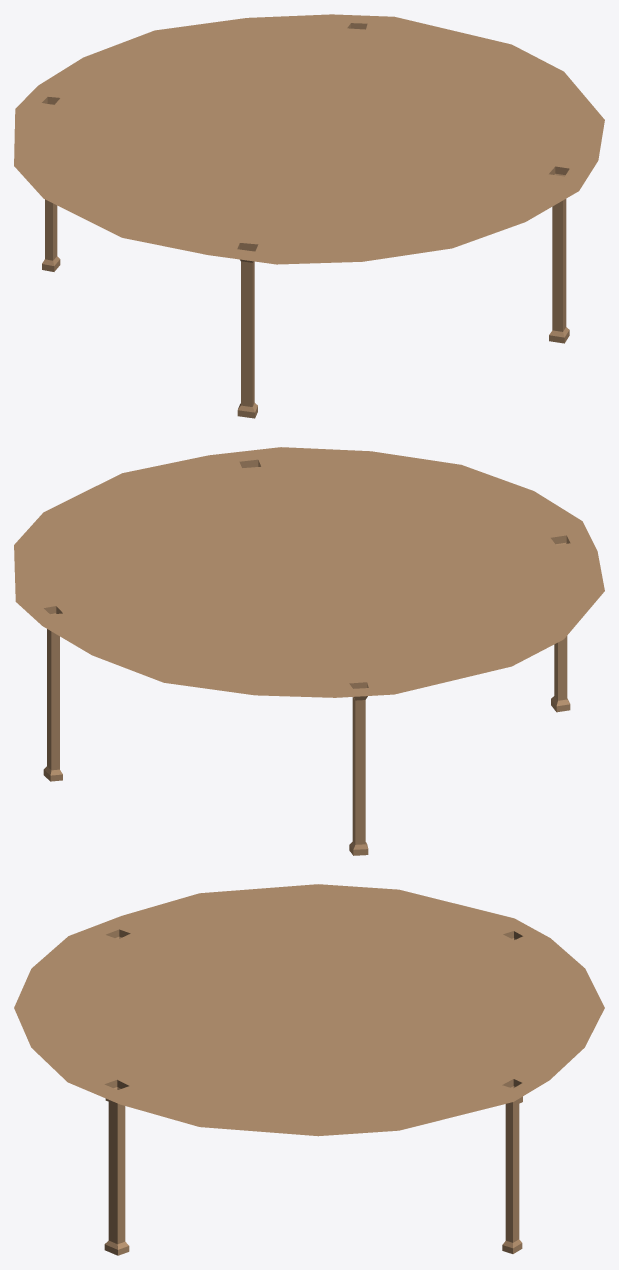
The model's file is table_support.fbx.
3 renders of one model, top to bottom at view 1: azimuth 30°, elevation 25°; view 2: azimuth 150°, elevation 25°; view 3: azimuth 270°, elevation 25°, orthographic.
Parts seen in each view (by area): view 1: Plane.012; view 2: Plane.012; view 3: Plane.012.
Boxes of the visible parts, box(x1,y1,x2,y2) form: Plane.012: box(14, 14, 604, 418); Plane.012: box(14, 447, 604, 855); Plane.012: box(14, 884, 604, 1255).
Size of the model in its own units: 1.63 by 0.5009 by 1.62.
